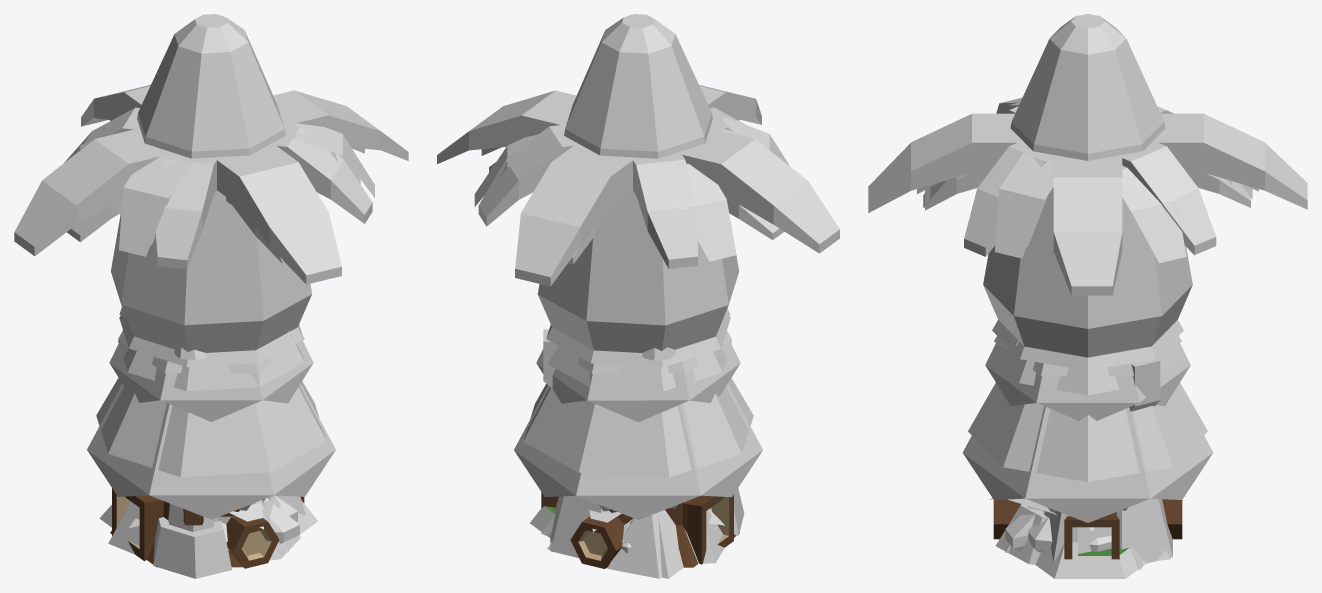
File: eua.glb
3 views of the same model, side by side, from view 1: azimuth 30°, elevation 25°; view 2: azimuth 150°, elevation 25°; view 3: azimuth 270°, elevation 25° (orthographic).
Parts seen in each view (by area): view 1: tree_cone, tree_palmShort, tree_pineRoundE, tree_pineRoundC, tree_palmDetailedTall, tree_palmBend, stone_tallB, tree_pineDefaultA, log, log_large, rock_tallA, tree_palmTall (+2 smaller); view 2: tree_cone, tree_palmShort, tree_pineRoundE, tree_pineRoundC, tree_palmDetailedTall, tree_palmBend, stone_tallB, tree_pineDefaultA, log_large, log, rock_tallA, rock_smallB (+4 smaller); view 3: tree_cone, tree_palmShort, tree_pineRoundE, tree_pineRoundC, tree_palmDetailedTall, tree_palmBend, stone_tallB, tree_pineDefaultA, rock_tallA, log, cactus_short, log_large (+3 smaller).
Boxes of the visible parts, bbox=[...] form: tree_cone: bbox=[111, 14, 311, 352]; tree_palmShort: bbox=[14, 85, 408, 284]; tree_pineRoundE: bbox=[96, 315, 326, 477]; tree_pineRoundC: bbox=[87, 18, 335, 519]; tree_palmDetailedTall: bbox=[64, 107, 372, 269]; tree_palmBend: bbox=[74, 119, 374, 261]; stone_tallB: bbox=[153, 495, 305, 578]; tree_pineDefaultA: bbox=[118, 340, 304, 391]; log: bbox=[226, 517, 279, 568]; log_large: bbox=[112, 488, 304, 561]; rock_tallA: bbox=[108, 495, 317, 554]; tree_palmTall: bbox=[73, 98, 364, 227]; tree_cone: bbox=[537, 14, 739, 352]; tree_palmShort: bbox=[437, 85, 839, 286]; tree_pineRoundE: bbox=[523, 315, 753, 477]; tree_pineRoundC: bbox=[514, 18, 762, 519]; tree_palmDetailedTall: bbox=[478, 107, 784, 268]; tree_palmBend: bbox=[474, 101, 789, 261]; stone_tallB: bbox=[550, 488, 744, 578]; tree_pineDefaultA: bbox=[547, 340, 731, 391]; log_large: bbox=[541, 492, 733, 564]; log: bbox=[570, 516, 624, 568]; rock_tallA: bbox=[530, 506, 724, 563]; rock_smallB: bbox=[541, 513, 683, 578]; tree_cone: bbox=[983, 14, 1192, 357]; tree_palmShort: bbox=[868, 113, 1307, 295]; tree_pineRoundE: bbox=[968, 320, 1207, 481]; tree_pineRoundC: bbox=[962, 18, 1213, 522]; tree_palmDetailedTall: bbox=[925, 106, 1250, 256]; tree_palmBend: bbox=[923, 97, 1252, 263]; stone_tallB: bbox=[995, 498, 1172, 564]; tree_pineDefaultA: bbox=[991, 345, 1184, 395]; rock_tallA: bbox=[1035, 511, 1146, 578]; log: bbox=[993, 499, 1182, 539]; cactus_short: bbox=[1129, 358, 1160, 411]; log_large: bbox=[1064, 512, 1119, 559].
Size of the model in its own units: 1.86 by 2.4 by 1.86.
